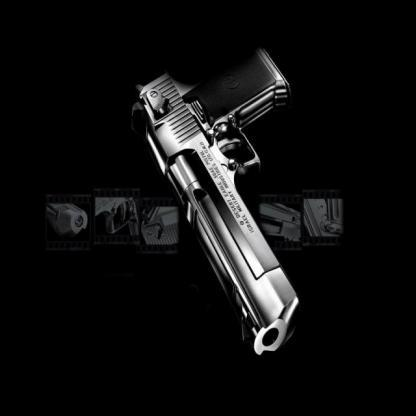weapon: (132, 47, 304, 360)
